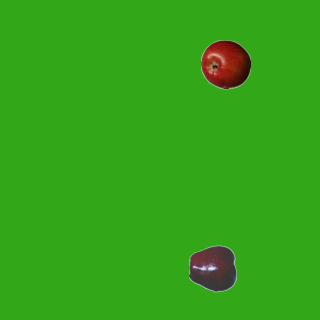Apple Braeburn: (200, 39, 250, 89)
Apple Red Delicious: (188, 243, 238, 293)
